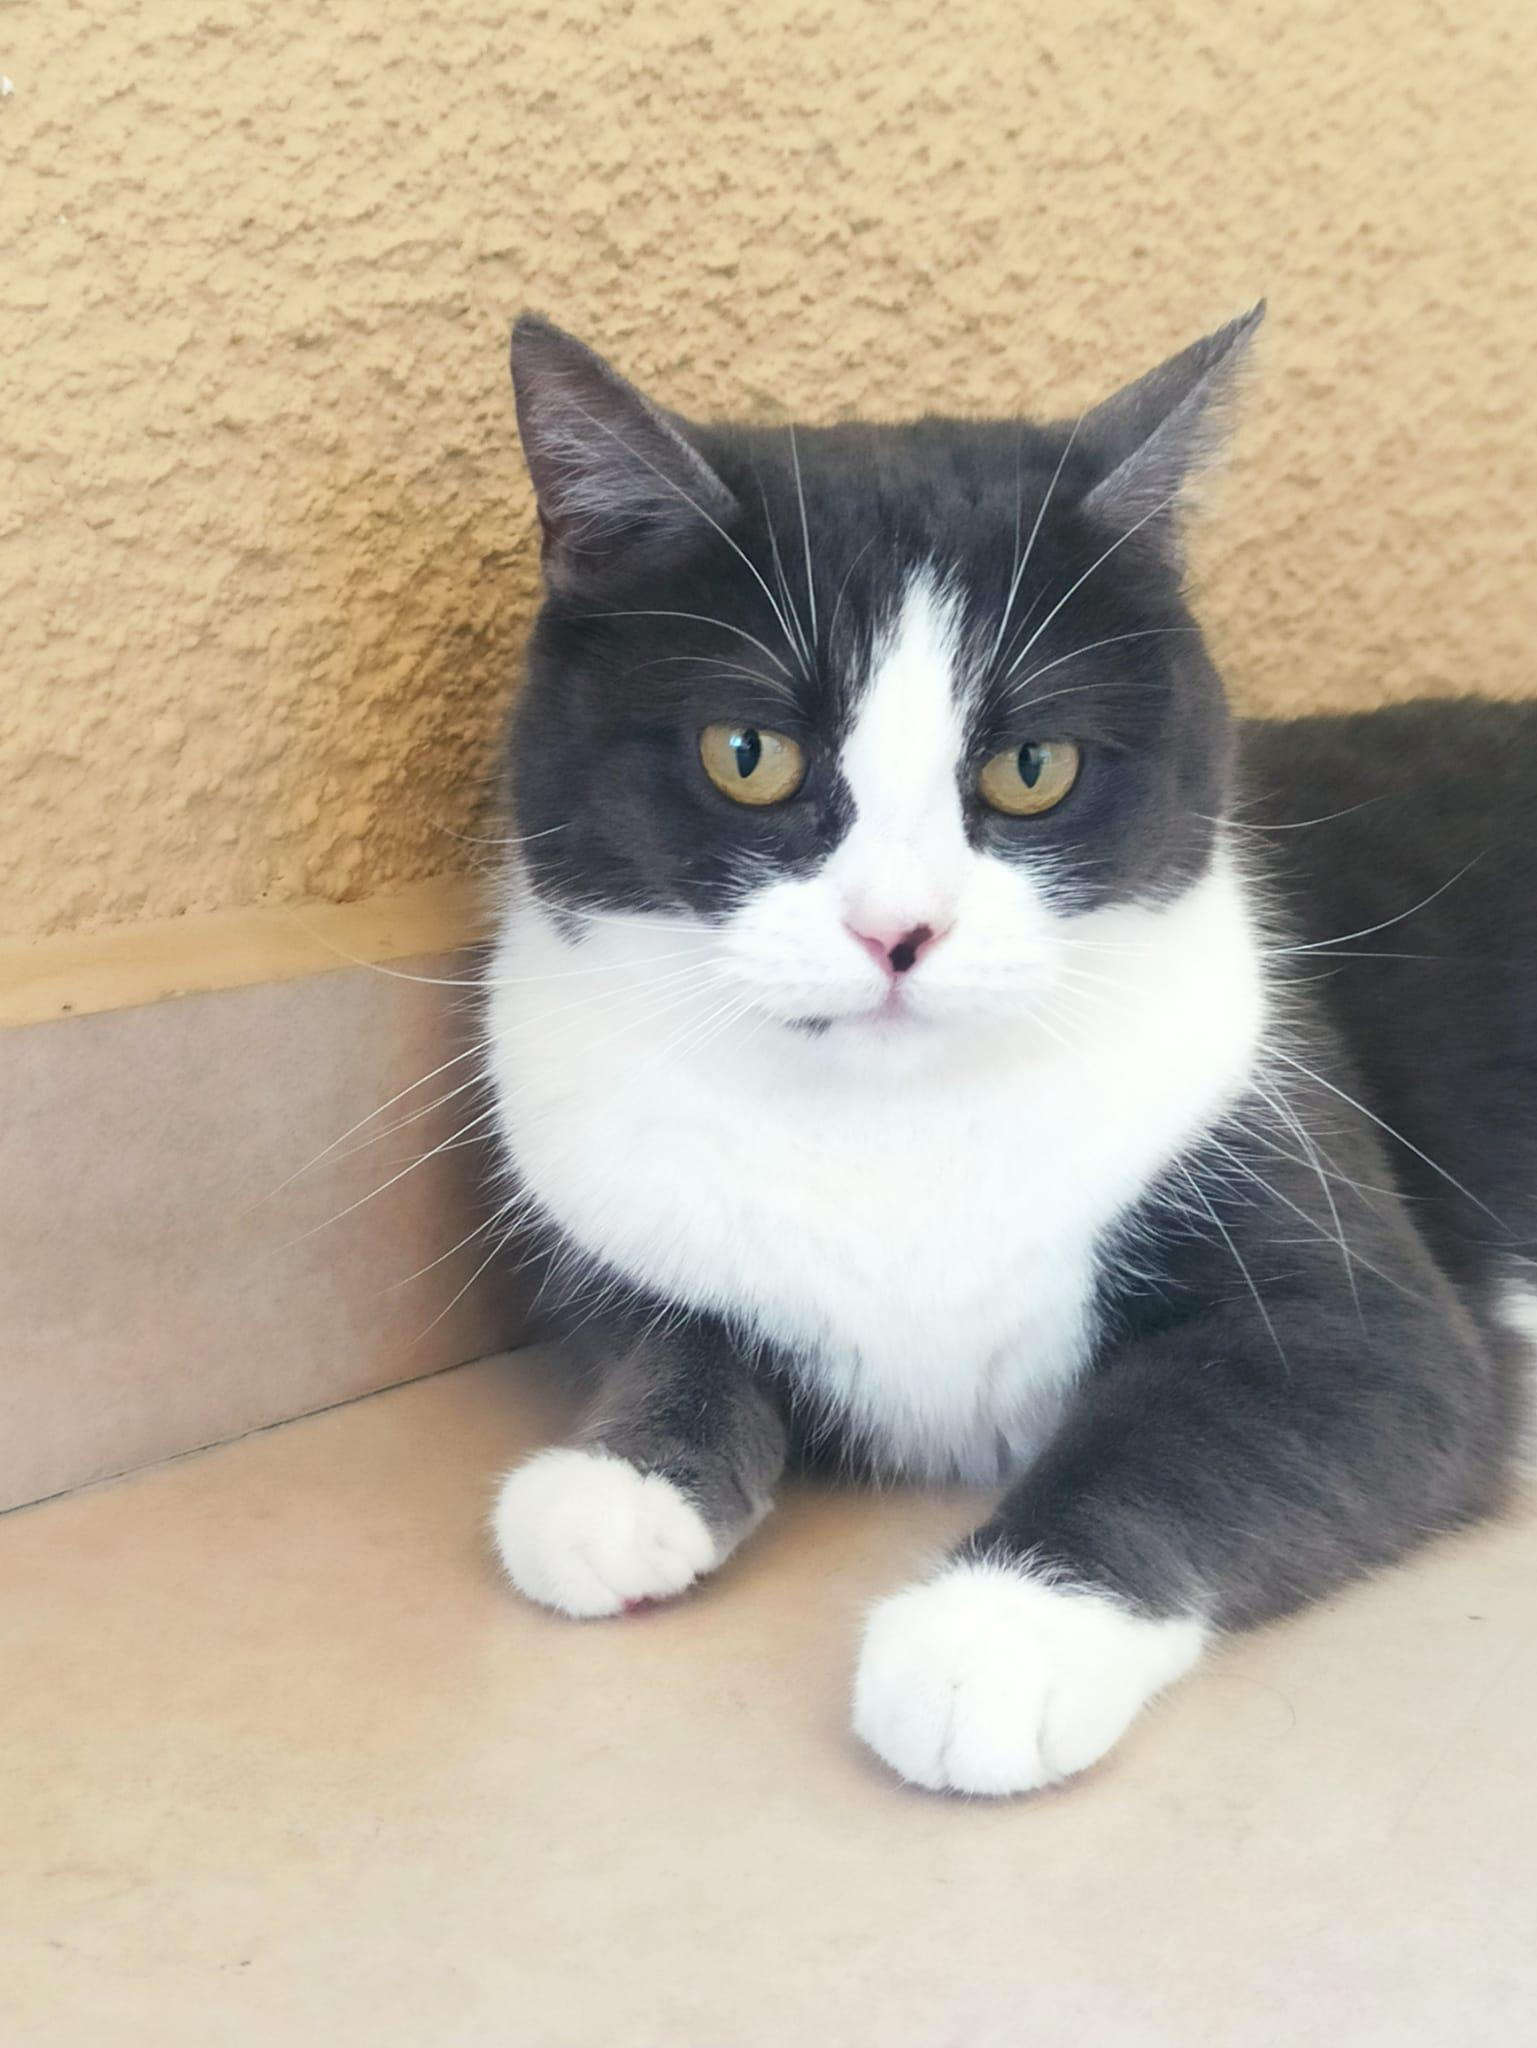kedo: (507, 315, 1537, 1787)
